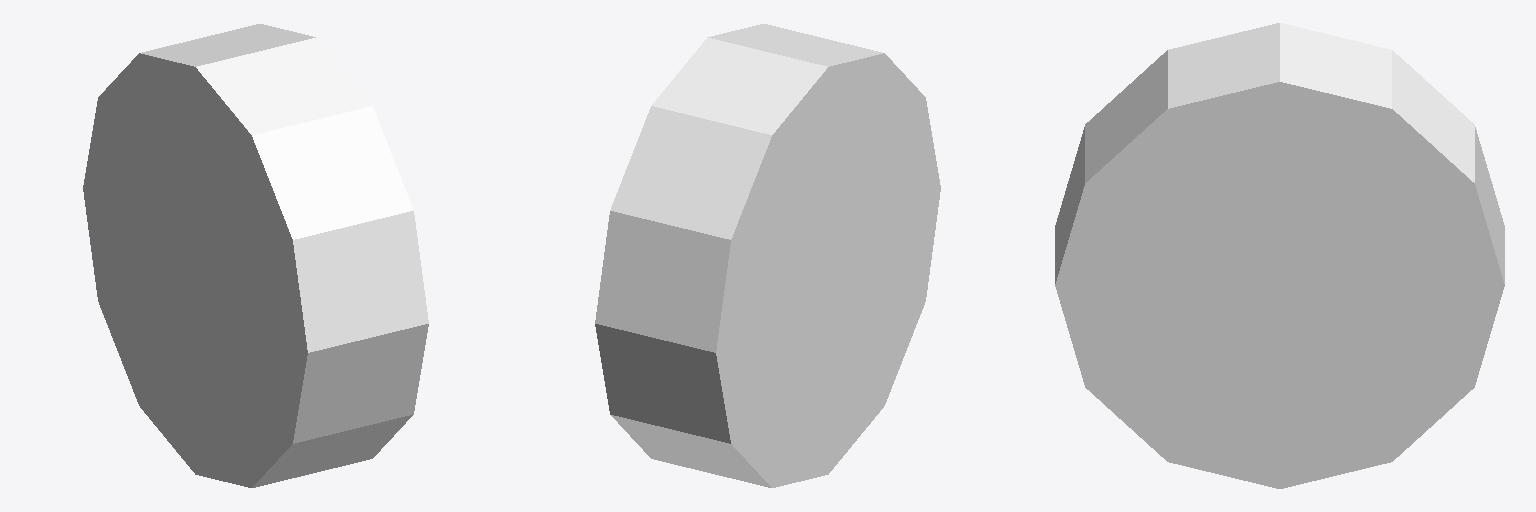
File: wheel.obj
3 views of the same model, side by side, from view 1: azimuth 30°, elevation 25°; view 2: azimuth 150°, elevation 25°; view 3: azimuth 270°, elevation 25° (orthographic).
Size of the model in its own units: 0.2248 by 0.7233 by 0.7233.